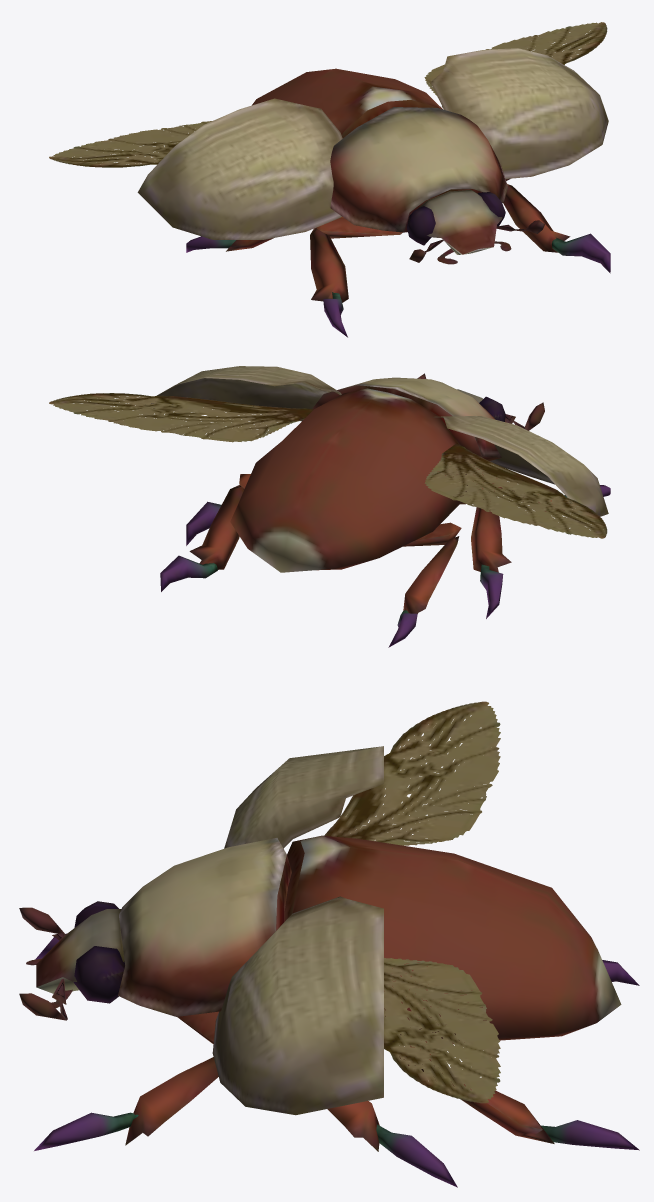
The model's file is scarab-beetle.glb.
3 views of the same model, one above another, from view 1: azimuth 30°, elevation 25°; view 2: azimuth 150°, elevation 25°; view 3: azimuth 270°, elevation 25° (orthographic). The views are drawn at different scales.
Bounding box in the file's own units: 5.78 × 1.39 × 3.37.
2 materials, 2 textured.
